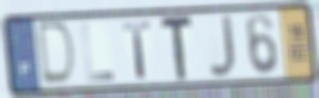6: (244, 12, 279, 77)
D: (37, 20, 78, 88)
J: (206, 13, 238, 80)
L: (80, 22, 117, 84)
T: (160, 13, 195, 84), (120, 19, 154, 81)
